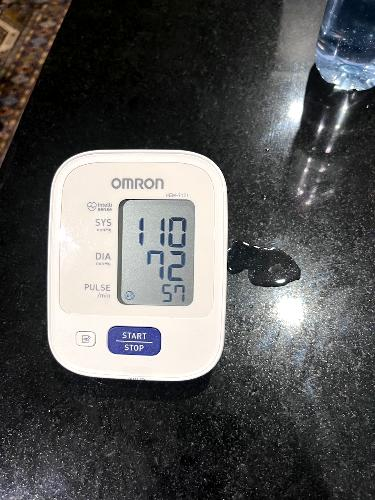bpm: (114, 195, 199, 308)
